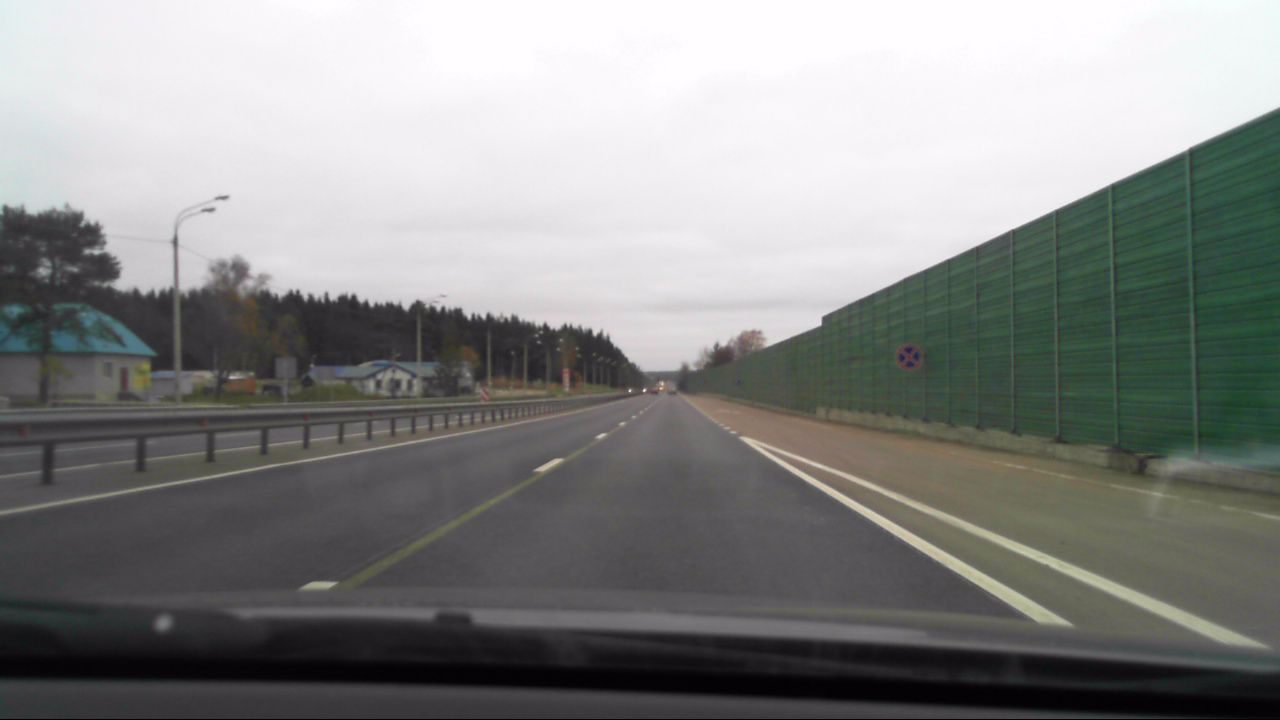No Parking: (897, 347, 920, 370)
